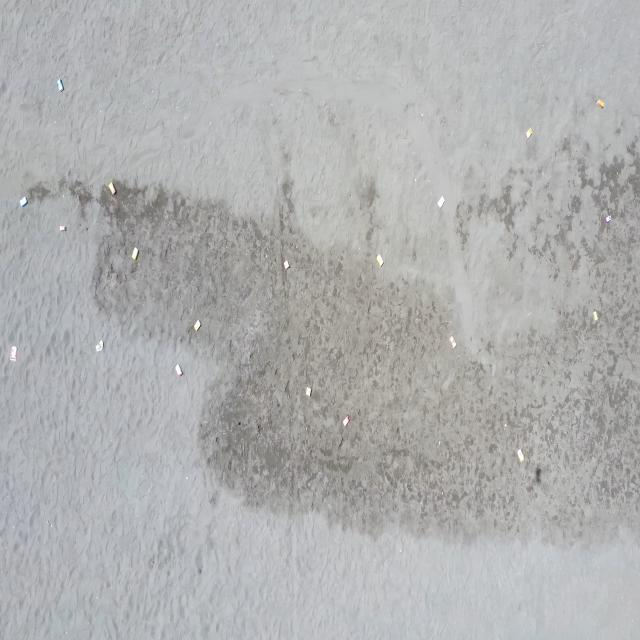retort-pouch: (107, 180, 117, 199), (174, 362, 184, 379), (9, 345, 18, 363), (516, 446, 525, 464), (95, 339, 105, 355), (19, 194, 28, 210), (56, 77, 65, 93), (376, 252, 384, 269), (596, 98, 606, 111), (131, 246, 139, 262), (342, 414, 351, 427), (449, 334, 457, 348), (58, 222, 66, 236), (283, 257, 291, 271), (525, 126, 533, 140), (437, 196, 445, 210), (193, 319, 202, 331), (305, 385, 312, 398), (592, 310, 598, 322), (605, 214, 612, 223)
